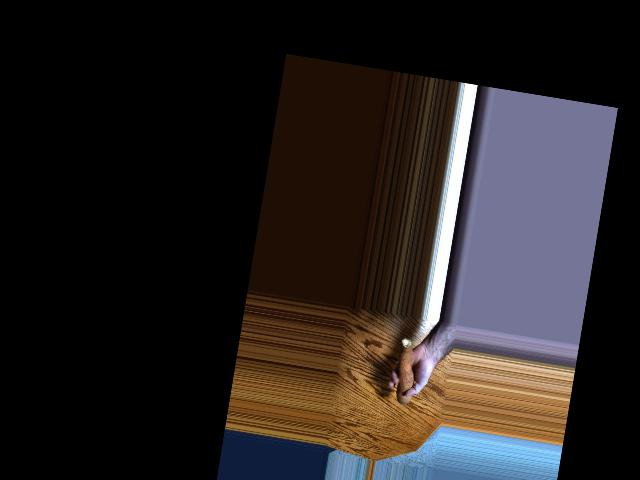sweet_potato: (391, 342, 421, 401)
